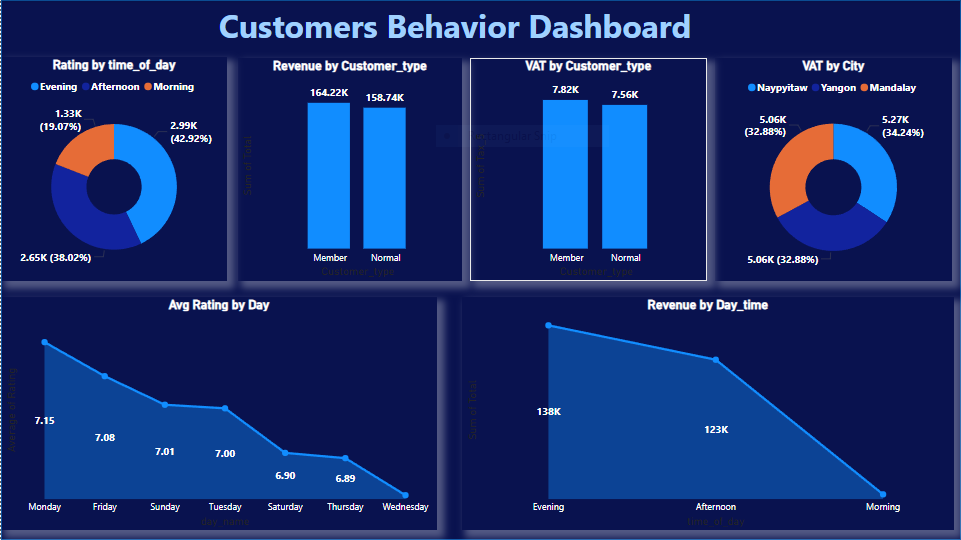

The page's visual inventory and layout, read from the dashboard file:
{"tool":"powerbi","page":{"name":"Customer behavior dashboard","canvas":[1280,720],"ordinal":1},"visuals":[{"type":"shape","box":[0,0,1280,719.8],"z":0},{"type":"textbox","box":[285.7,0,655.7,75.7],"z":1000},{"type":"stackedAreaChart","title":"Revenue by Day_time ","fields":{"Category":["sales.time_of_day"],"Y":["Sum(sales.Total)"]},"box":[614.3,395.7,655.7,311.4],"z":2000},{"type":"columnChart","title":"Revenue by Customer_type","fields":{"Category":["sales.Customer_type"],"Y":["Sum(sales.Total)"]},"box":[315.7,77.1,298.6,297.1],"z":3000},{"type":"donutChart","title":"VAT by City ","fields":{"Category":["sales.City"],"Y":["Sum(sales.Tax_5)"]},"box":[951.4,77.1,315.7,297.1],"z":4000},{"type":"columnChart","title":"VAT by Customer_type","fields":{"Category":["sales.Customer_type"],"Y":["Sum(sales.Tax_5)"]},"box":[625.7,77.1,315.7,297.1],"z":5000},{"type":"donutChart","title":"Rating by time_of_day","fields":{"Category":["sales.time_of_day"],"Y":["Sum(sales.Rating)"]},"box":[0,75.7,301.4,298.6],"z":6000},{"type":"stackedAreaChart","title":"Avg Rating by Day","fields":{"Category":["sales.day_name"],"Y":["Avg(sales.Rating)"]},"box":[0,395.7,581.4,311.4],"z":8000}]}

Visuals, with their boxes in screenshot pixels (x1, y1, x2, y2), scaled from the page's 1280x720 canvas onto the 961x540 screenshot:
shape: box(0, 0, 960, 539)
textbox: box(214, 0, 707, 57)
"Revenue by Day_time " stackedAreaChart: box(461, 297, 953, 530)
"Revenue by Customer_type" columnChart: box(237, 58, 461, 281)
"VAT by City " donutChart: box(714, 58, 951, 281)
"VAT by Customer_type" columnChart: box(470, 58, 707, 281)
"Rating by time_of_day" donutChart: box(0, 57, 226, 281)
"Avg Rating by Day" stackedAreaChart: box(0, 297, 437, 530)
